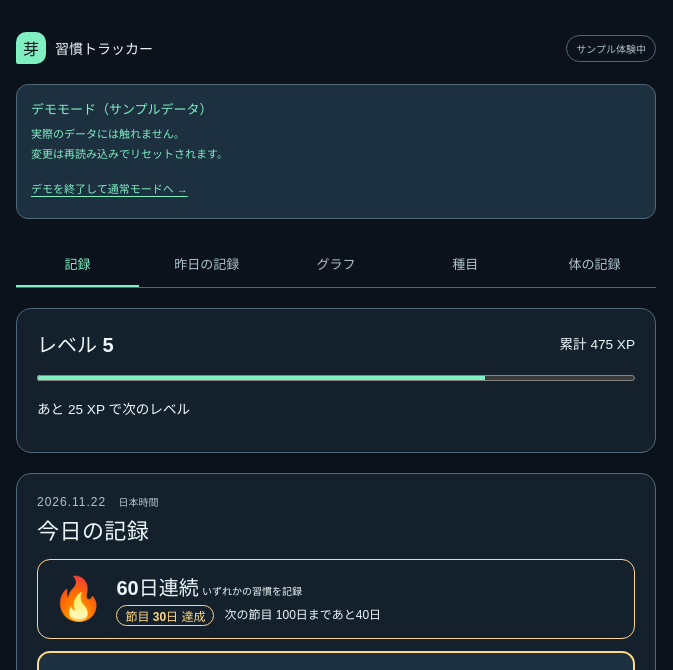
Test case: body tab › shows only fake measurements in demo mode without reading real storage
Step 1. Click the button with test id "nav-body" → (594, 265), box [533, 243, 656, 287]
(page scrolled)
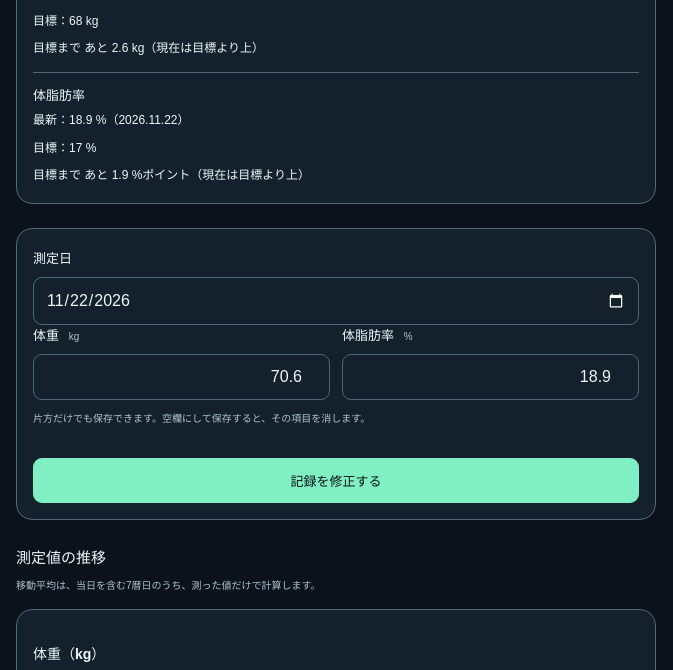
Step 2. Replace the text in the number field with test id "body-weight-input" with "80" → (182, 377), box [33, 354, 330, 400]
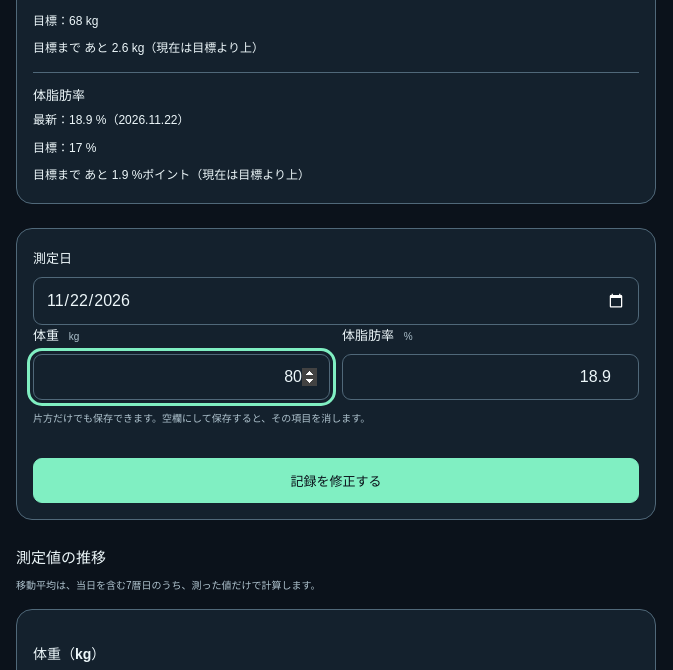
Step 3. Click the button with test id "body-save-button" → (336, 480), box [33, 458, 639, 503]
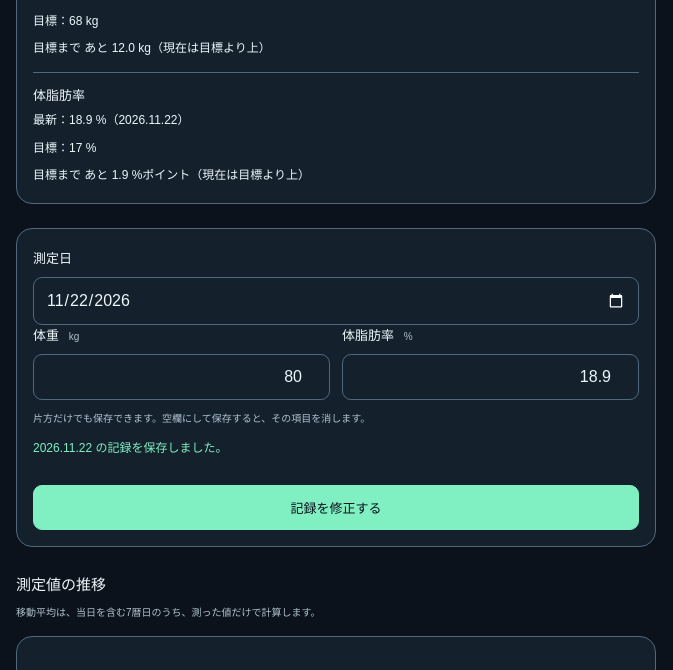
Result: the message shows "保存しました" at [33, 441, 228, 455]
